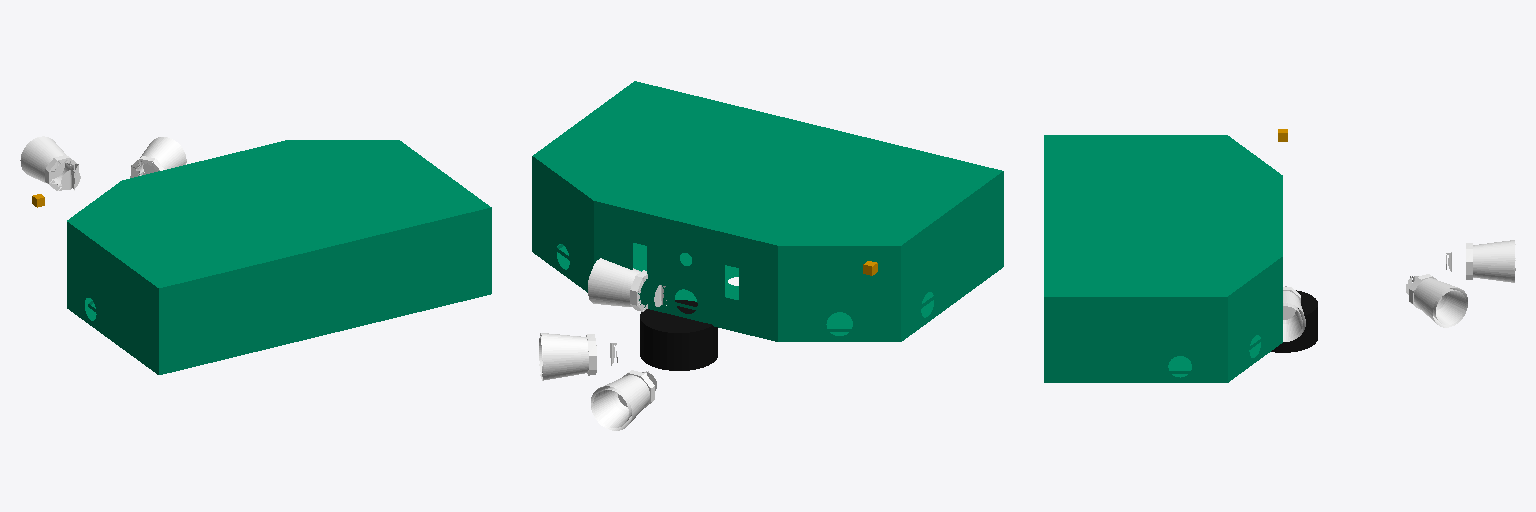
URDF robot description (IMRrobot):
<?xml version="1.0"?>

<robot name="IMRrobot">

   <material name="white">
      <color rgba="1 1 1 1"/>
    </material>

    <material name="black">
      <color rgba="0.1 0.1 0.1 1"/>
    </material>

  <link name="base_link">
    <visual>
      <geometry>
        <box size="0.01 0.01 0.01"/>
      </geometry>
      <origin rpy="0 0 0" xyz="0 0 0"/>
    </visual>
  </link>

  <!--IMU Link-->
  <joint name="imu_link_joint" type="floating">
    <parent link="base_link"/>
    <child link="imu_link"/>
  </joint>

  <link name="imu_link">
    <visual>
      <geometry>
        <box size="0.01 0.01 0.01"/>
      </geometry>
    </visual>
  </link>

  <!--SENSOR HEAD-->
  <joint name="sensor_head_link_joint" type="fixed">
    <axis xyz="1 0 0"/>
    <parent link="imu_link"/>
    <child link="sensor_head_link"/>
    <origin rpy="3.14159 0 0" xyz="0 0 0"/>
  </joint>

  <link name="sensor_head_link">
    <visual>
      <geometry>
        <mesh filename="package://robot_urdf/meshes/sensorHead.stl"/>
       <!-- <box size="0.45 0.35 0.22"/> -->
      </geometry>
      <origin rpy="0 0 0" xyz="0 0 0"/>
    </visual>
  </link>

  <!-- LIDAR -->
  <joint name="lidar_link_joint" type="fixed">
    <axis xyz="1 0 0"/>
    <parent link="sensor_head_link"/>
    <child link="lidar_link"/>
    <origin rpy="0 0 0" xyz="0.21082 0 0.12"/>
  </joint>

  <link name="lidar_link">
    <visual>
      <geometry>
        <cylinder length="0.04" radius="0.0375"/>
      </geometry>
      <origin rpy="0 0 1.57075" xyz="0 0 0"/>
      <material name="black"/>
    </visual>
  </link>

  <!-- SONAR0 -->
  <joint name="sonar0_joint" type="fixed">
    <parent link="sensor_head_link"/>
    <child link="sonar0"/>
    <origin rpy="0 0 1.57075" xyz="0.144526 0.2032 0.08255"/>
   <!-- <axis xyz="0 0 1"/>
    <origin xyz="0 -0.22 0.25"/> -->
  </joint>

  <link name="sonar0">
    <visual>
      <geometry>
        <!-- <cylinder length="0.035" radius="0.035"/> -->
         <mesh filename="package://robot_urdf/meshes/UT_MB7380.stl"/> 
      </geometry>
      <origin rpy="0 0 0" xyz="0 0 0"/>
      <material name="white"/>
    </visual>
  </link>

  <!-- SONAR1 -->
  <joint name="sonar1_joint" type="fixed">
    <parent link="sensor_head_link"/>
    <child link="sonar1"/>
    <origin rpy="0 0 0.610865" xyz="0.22479 0.1524 0.08255"/>
   <!-- <axis xyz="0 0 1"/>
    <origin xyz="0 -0.22 0.25"/> -->
  </joint>

  <link name="sonar1">
    <visual>
      <geometry>
        <!-- <cylinder length="0.035" radius="0.035"/> -->
        <mesh filename="package://robot_urdf/meshes/UT_MB7380.stl"/> 
      </geometry>
      <origin rpy="0 0 0" xyz="0 0 0"/>
      <material name="white"/>
    </visual>
  </link>

 <!-- SONAR2 -->
  <joint name="sonar2_joint" type="fixed">
    <parent link="sensor_head_link"/>
    <child link="sonar2"/>
    <origin rpy="0 0 0" xyz="0.254 0 0.08255"/>
   <!-- <axis xyz="0 0 1"/>
    <origin xyz="0 -0.22 0.25"/> -->
  </joint>

  <link name="sonar2">
    <visual>
      <geometry>
         <!--<cylinder length="0.035" radius="0.035"/> -->
        <mesh filename="package://robot_urdf/meshes/UT_MB7380.stl"/> 
      </geometry>
      <origin rpy="0 0 0" xyz="0 0 0"/>
      <material name="white"/>
    </visual>
  </link>

<!-- SONAR3 -->
  <joint name="sonar3_joint" type="fixed">
    <parent link="sensor_head_link"/>
    <child link="sonar3"/>
    <origin rpy="0 0 -0.610865" xyz="0.22479 -0.1524 0.08255"/>
   <!-- <axis xyz="0 0 1"/>
    <origin xyz="0 -0.22 0.25"/> -->
  </joint>

  <link name="sonar3">
    <visual>
      <geometry>
       <!--  <cylinder length="0.035" radius="0.035"/> -->
        <mesh filename="package://robot_urdf/meshes/UT_MB7380.stl"/> 
      </geometry>
      <origin rpy="0 0 0" xyz="0 0 0"/>
      <material name="white"/>
    </visual>
  </link>

<!-- SONAR4 -->
  <joint name="sonar4_joint" type="fixed">
    <parent link="sensor_head_link"/>
    <child link="sonar4"/>
    <origin rpy="0 0 -1.57075" xyz="0.144526 -0.2032 0.08255"/>
   <!-- <axis xyz="0 0 1"/>
    <origin xyz="0 -0.22 0.25"/> -->
  </joint>

  <link name="sonar4">
    <visual>
      <geometry>
       <!--  <cylinder length="0.035" radius="0.035"/> -->
        <mesh filename="package://robot_urdf/meshes/UT_MB7380.stl"/> 
      </geometry>
      <origin rpy="0 0 0" xyz="0 0 0"/>
      <material name="white"/>
    </visual>
  </link>

</robot>

--- Facts derived from the render (not from the file) ---
Views: 3 orthographic renders of the robot side by side, from view 1: azimuth 30°, elevation 25°; view 2: azimuth 150°, elevation 25°; view 3: azimuth 270°, elevation 25°.
Robot: IMRrobot — 9 links, 8 joints (7 fixed, 1 floating); root link base_link; default pose: every joint at zero.
Visible links, largest first — view 1: sensor_head_link, sonar4, sonar3; view 2: sensor_head_link, lidar_link, sonar4, sonar3, sonar2; view 3: sensor_head_link, sonar3, sonar4, lidar_link, sonar2.
Boxes of the visible links, x1=… form: sensor_head_link: x1=67, y1=140, x2=491, y2=374; sonar4: x1=20, y1=136, x2=80, y2=190; sonar3: x1=130, y1=137, x2=186, y2=177; sensor_head_link: x1=532, y1=81, x2=1003, y2=341; lidar_link: x1=640, y1=300, x2=717, y2=370; sonar4: x1=591, y1=370, x2=656, y2=430; sonar3: x1=539, y1=333, x2=617, y2=380; sonar2: x1=588, y1=258, x2=666, y2=311; sensor_head_link: x1=1044, y1=135, x2=1282, y2=382; sonar3: x1=1406, y1=274, x2=1467, y2=327; sonar4: x1=1446, y1=240, x2=1515, y2=282; lidar_link: x1=1271, y1=290, x2=1317, y2=352; sonar2: x1=1283, y1=286, x2=1305, y2=341.
Bounding box of the posed robot: 0.4114 × 0.5017 × 0.145 m (x, y, z).
6 mesh visuals loaded from 2 distinct referenced files (1 binary STL, 1 ASCII STL).